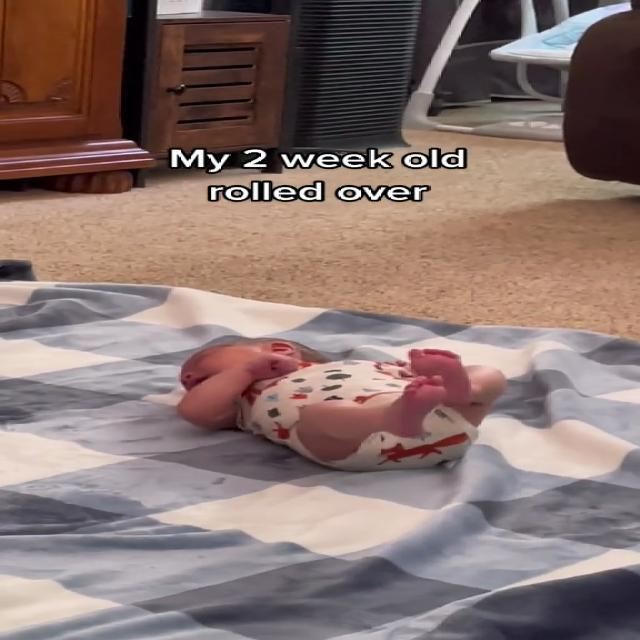baby: (176, 332, 518, 474)
